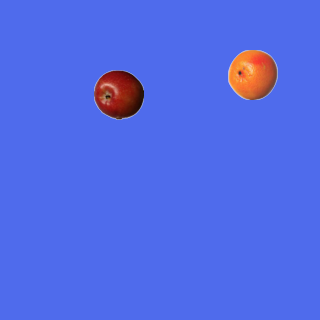Apple Braeburn: (93, 69, 143, 119)
Grapefruit Pink: (227, 49, 277, 99)
